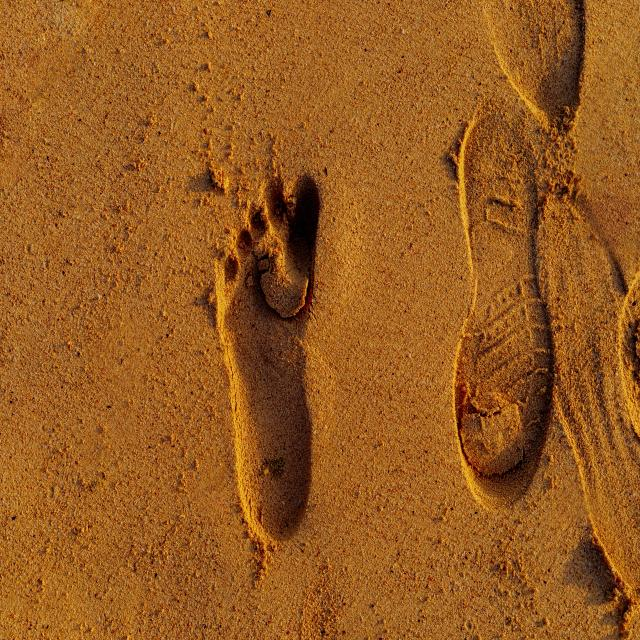human_footprint: (126, 72, 630, 594)
